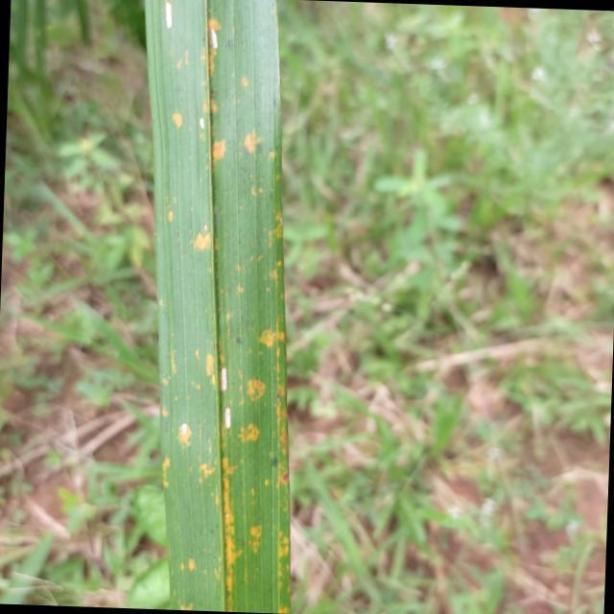Kalium: (144, 0, 294, 614)
